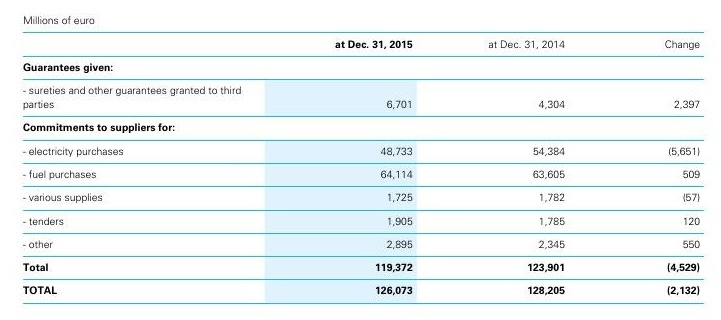table: (0, 0, 721, 320)
